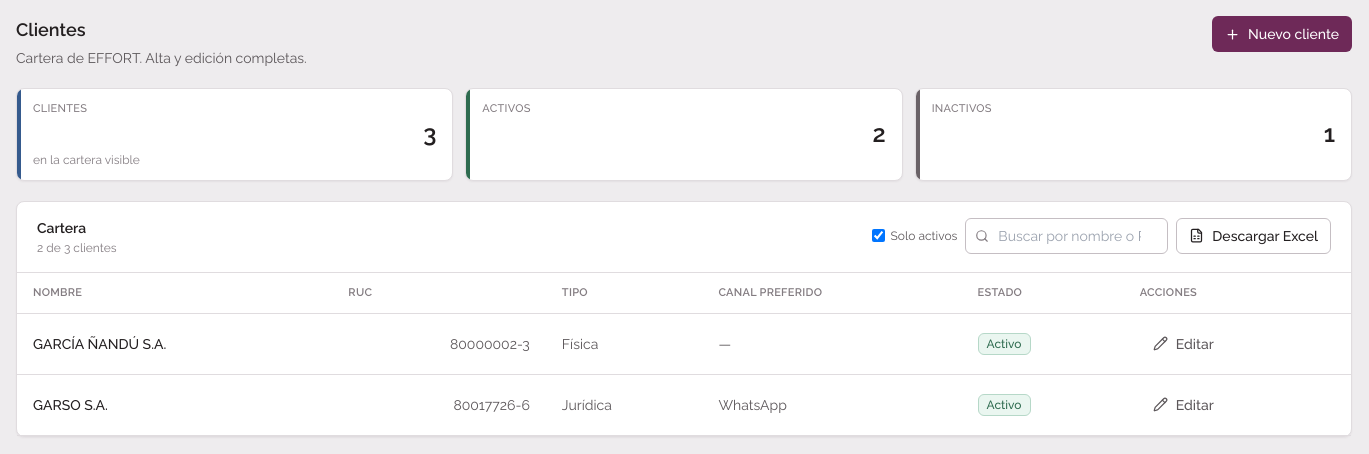
Test: pantalla de clientes › búsqueda de cliente (2026-10-02) › busca por nombre sin distinguir mayúsculas ni tildes, y por RUC
Check: the text "GARSO S.A." is shown, box [17, 374, 332, 435]
Check: the button "Nuevo cliente" is shown, box [1212, 16, 1352, 52]
Type "garcia nandu" into the search field named "Buscar cliente" at (1067, 236), box [965, 218, 1168, 254]
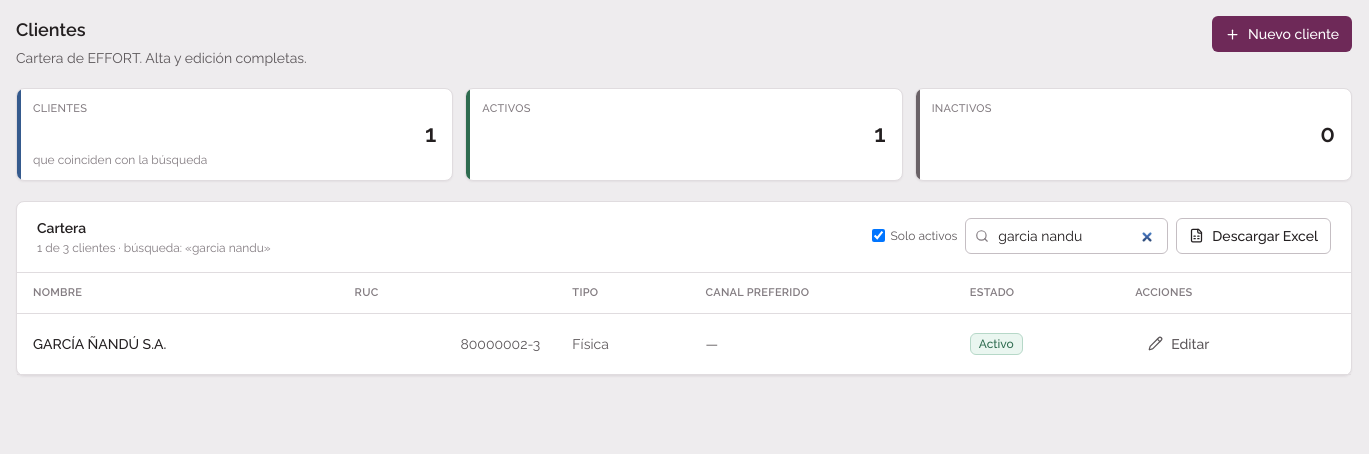
Check: the text "GARCÍA ÑANDÚ S.A." is shown, box [17, 313, 339, 374]
Check: the text "GARSO S.A." is gone
Check: the text "1 de 3 clientes · búsqueda: «garcia nandu»" is shown, box [37, 240, 271, 256]
Replace the text in the search field named "Buscar cliente" with "GARCÍA" at (1067, 236), box [965, 218, 1168, 254]
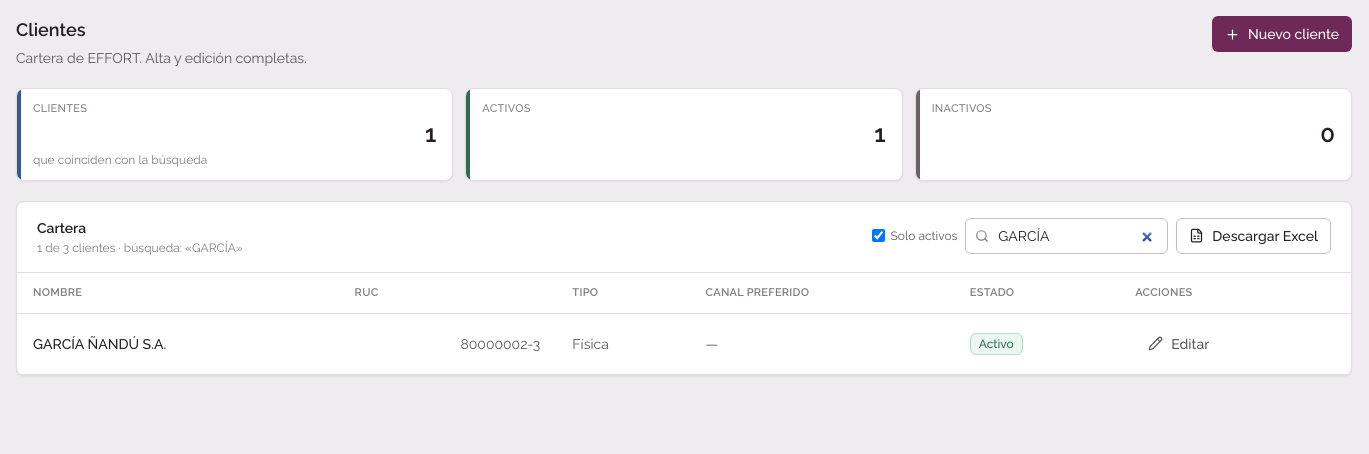
Check: the text "GARCÍA ÑANDÚ S.A." is shown, box [17, 313, 339, 374]
Replace the text in the search field named "Buscar cliente" with "80000002" at (1067, 236), box [965, 218, 1168, 254]
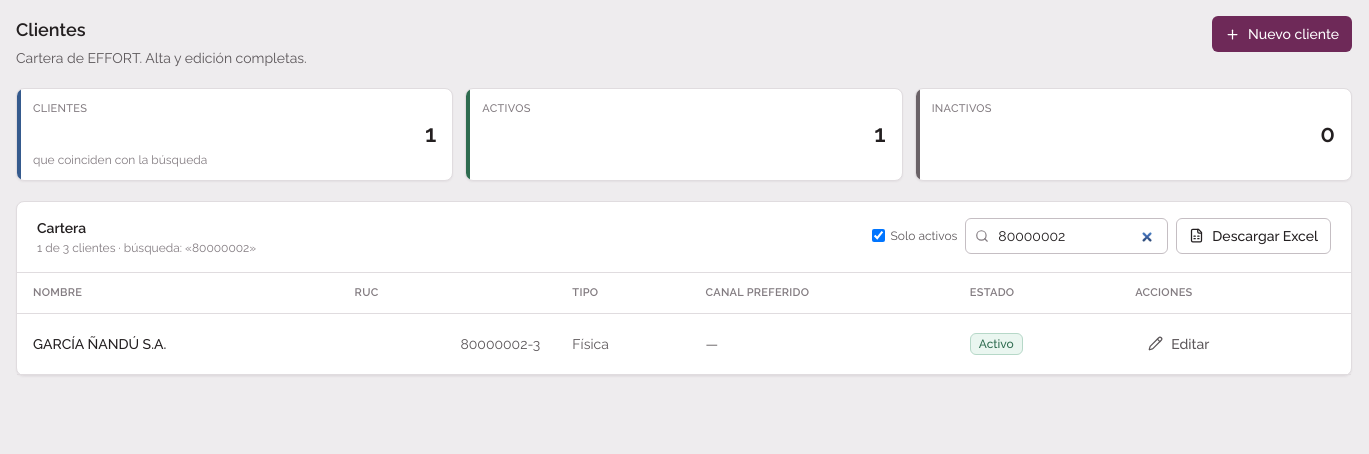
Check: the text "GARCÍA ÑANDÚ S.A." is shown, box [17, 313, 339, 374]
Check: the text "GARSO S.A." is not shown
Clear the search field named "Buscar cliente" at (1067, 236), box [965, 218, 1168, 254]
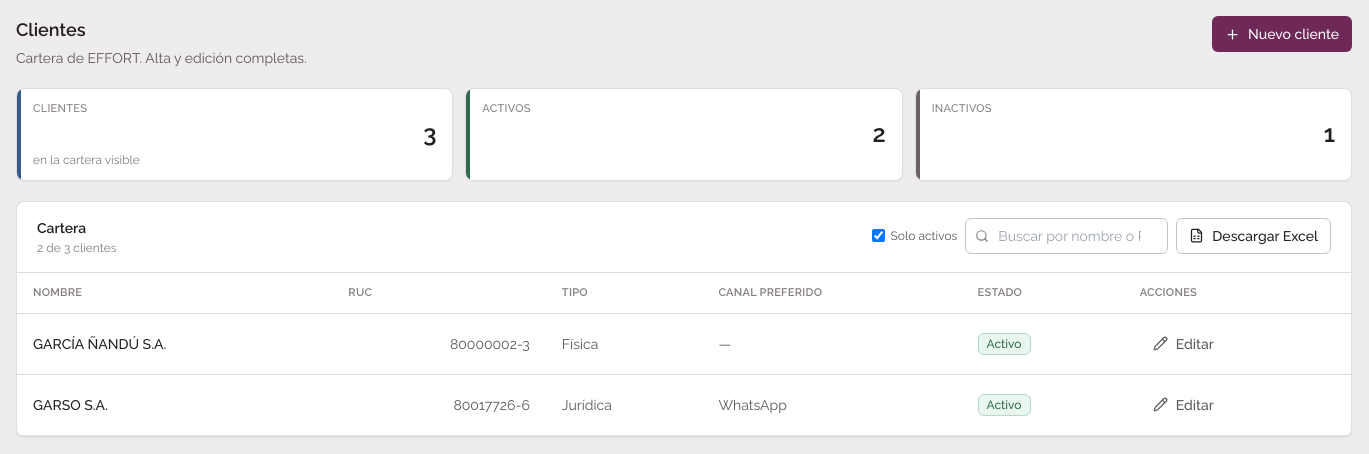
Check: the text "GARCÍA ÑANDÚ S.A." is shown, box [17, 313, 332, 374]
Check: the text "GARSO S.A." is shown, box [17, 374, 332, 435]
